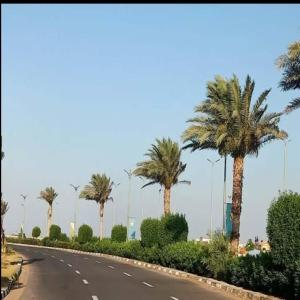palm tree: (181, 72, 288, 256), (133, 135, 191, 218), (78, 172, 114, 241), (36, 185, 58, 237)
